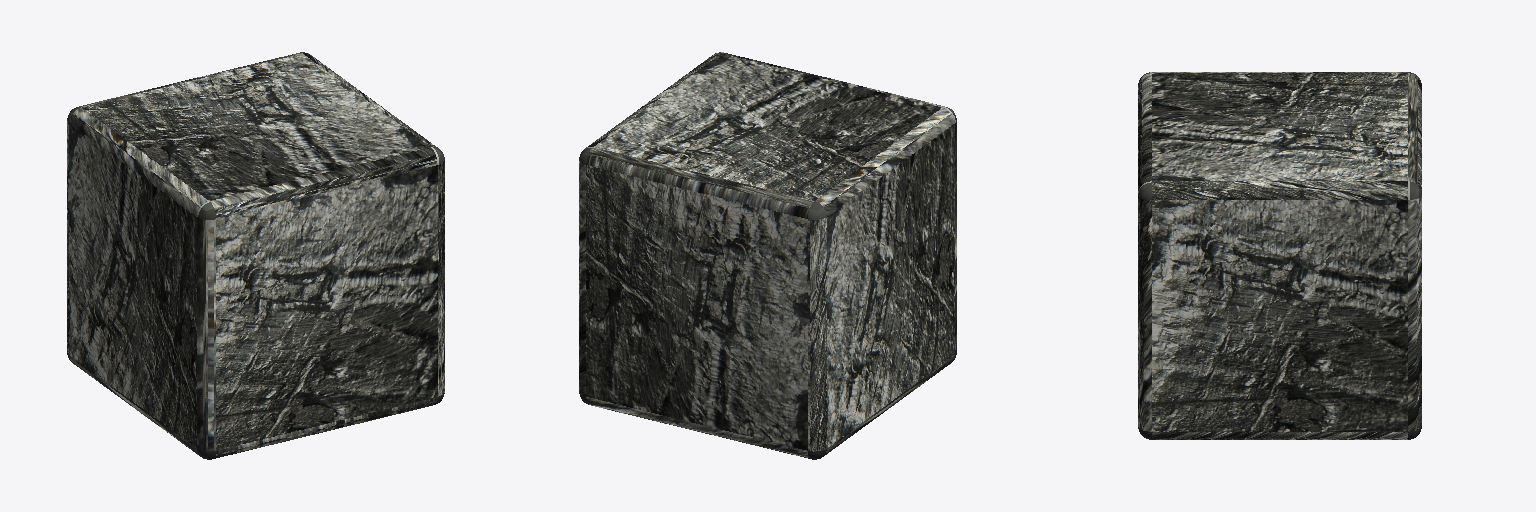
The picture shows the model from 3 angles: view 1: azimuth 30°, elevation 25°; view 2: azimuth 150°, elevation 25°; view 3: azimuth 270°, elevation 25°; orthographic projection.
Parts seen in each view (by area): view 1: Cube; view 2: Cube; view 3: Cube.
Boxes of the visible parts, x1,y1,x2,y2 form: Cube: [67, 52, 444, 459]; Cube: [579, 52, 956, 459]; Cube: [1138, 72, 1421, 439].
Bounding box in the file's own units: 2 × 2 × 2.
1 materials, 1 textured.